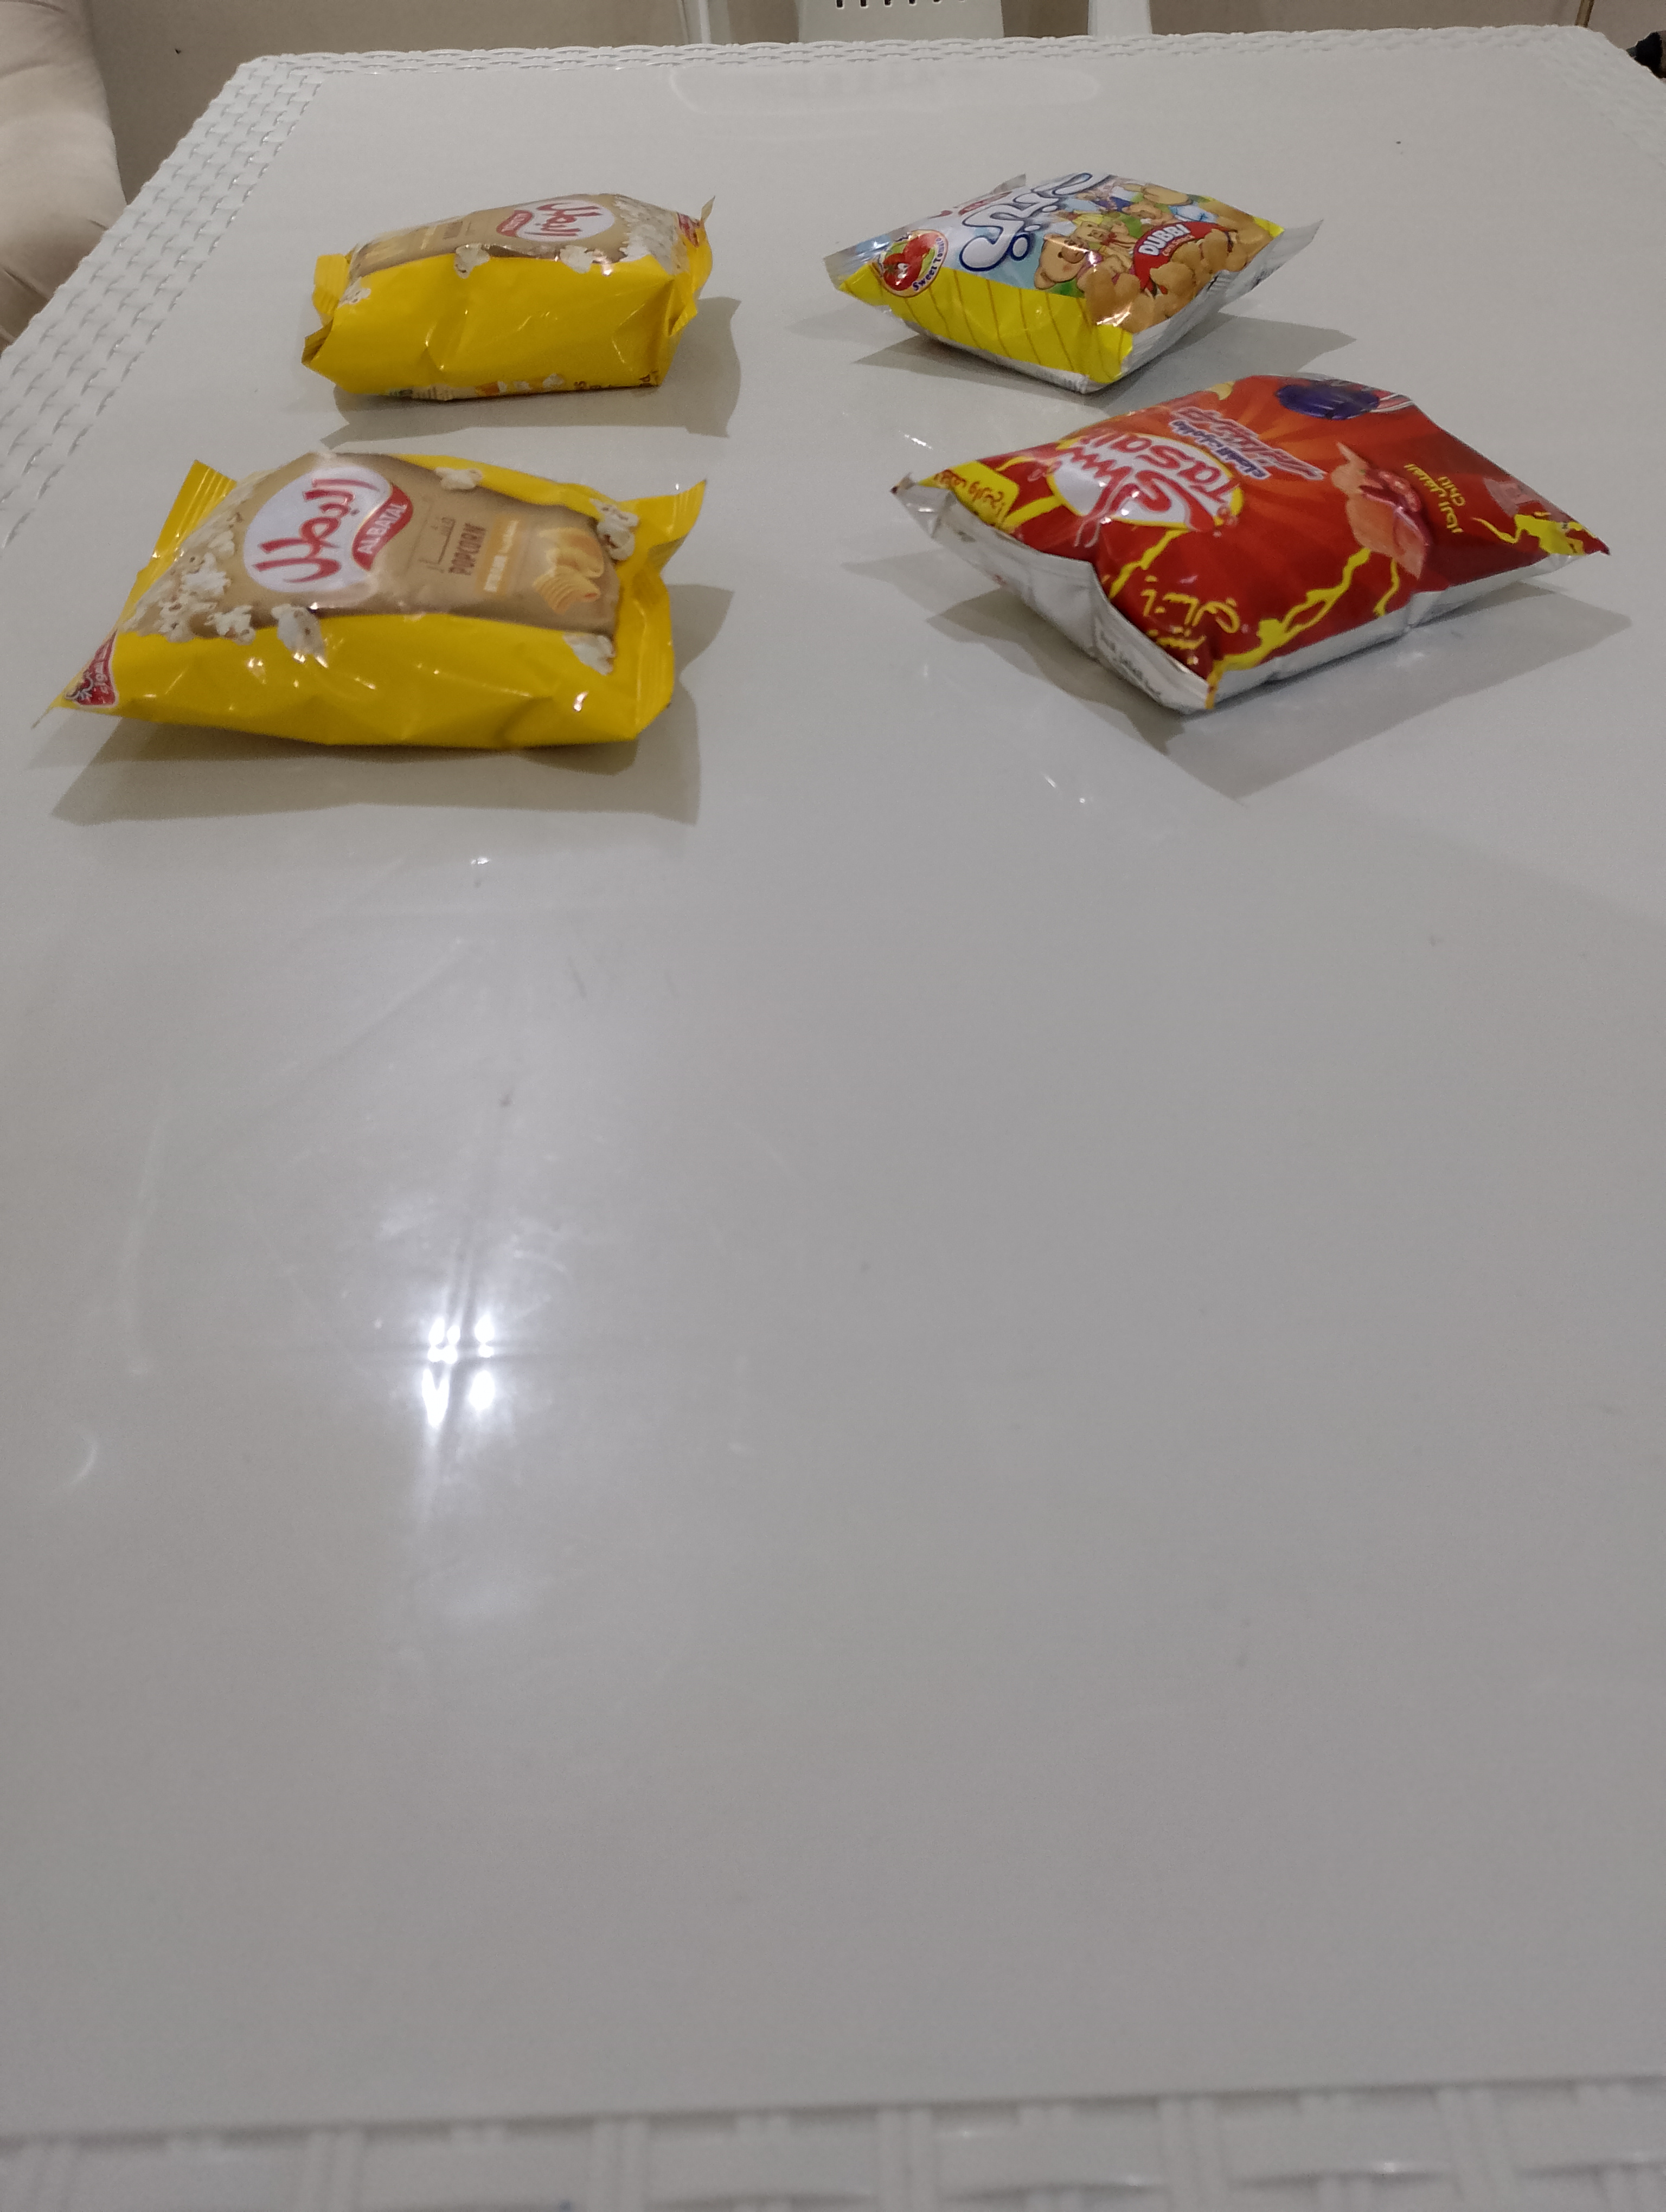albatal_dubbi_corn_snack: (821, 170, 1325, 395)
albatal_popcorn_butter_flavor: (28, 449, 707, 754), (301, 192, 716, 402)
tasali_hot_chili: (887, 371, 1612, 719)
